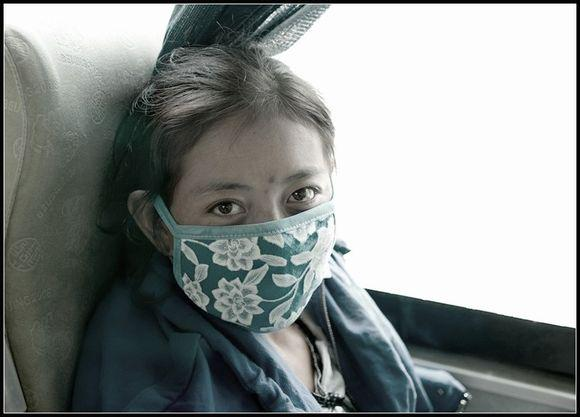OK: (174, 163, 327, 316)
